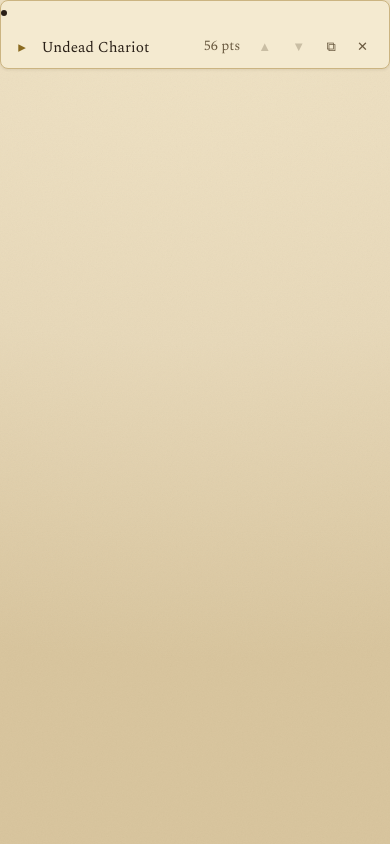
it: EntryRow dice Attacks (OLD-39) › prints the Undead Chariot chassis A as 1D6 (No Muertos printed p.84)
The width and height of the screenshot is (390, 844).
Click the button with class "entry-expand": (104, 47) left=12, top=35, right=196, bottom=60
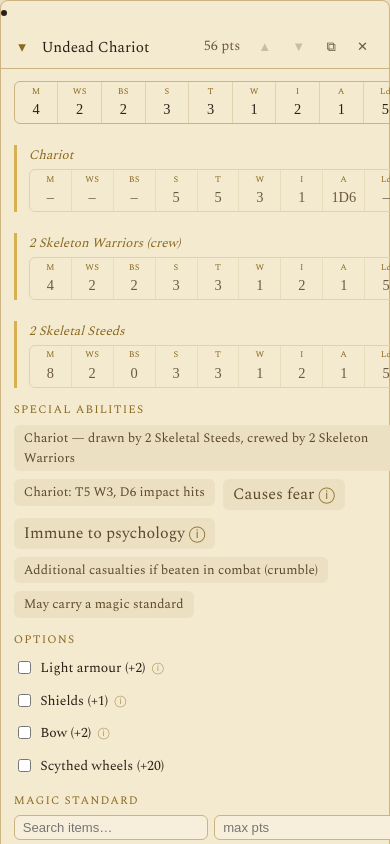
expect the 1st text with class "stat-v" reads "–": met, box left=47, top=189, right=54, bottom=205
expect the text with class "stat-v" reads "1D6": met, box left=331, top=189, right=356, bottom=205
expect the 2nd text with class "stat-v" reads "1": met, box left=338, top=101, right=345, bottom=117
